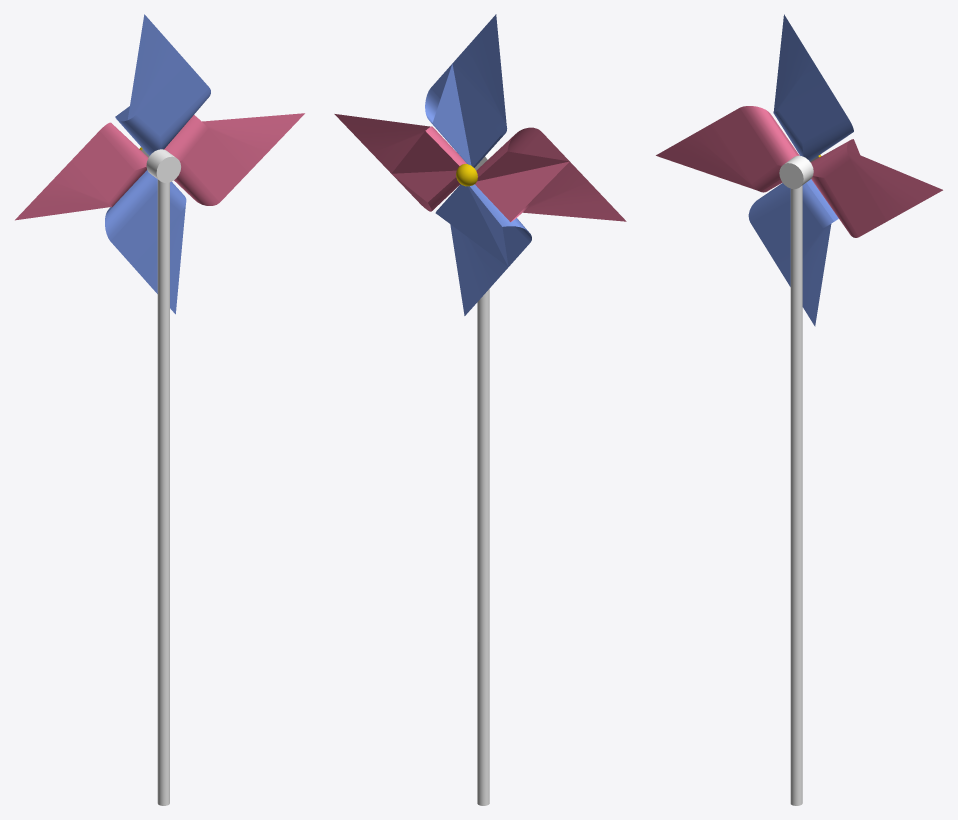
Rendered from virevent003.fbx.
3 renders of one model, left to right at view 1: azimuth 30°, elevation 25°; view 2: azimuth 150°, elevation 25°; view 3: azimuth 330°, elevation 25°, orthographic.
Parts seen in each view (by area): view 1: pPlane6, pCylinder3; view 2: pPlane6, pCylinder3; view 3: pPlane6, pCylinder3.
Part boxes in pixels (<box>): pPlane6: <box>15,14,304,314</box>; pCylinder3: <box>146,149,180,805</box>; pPlane6: <box>334,14,626,315</box>; pCylinder3: <box>474,148,496,805</box>; pPlane6: <box>656,14,942,326</box>; pCylinder3: <box>779,155,813,805</box>.
Size of the model in its own units: 1.65 by 4.3 by 0.2595.
